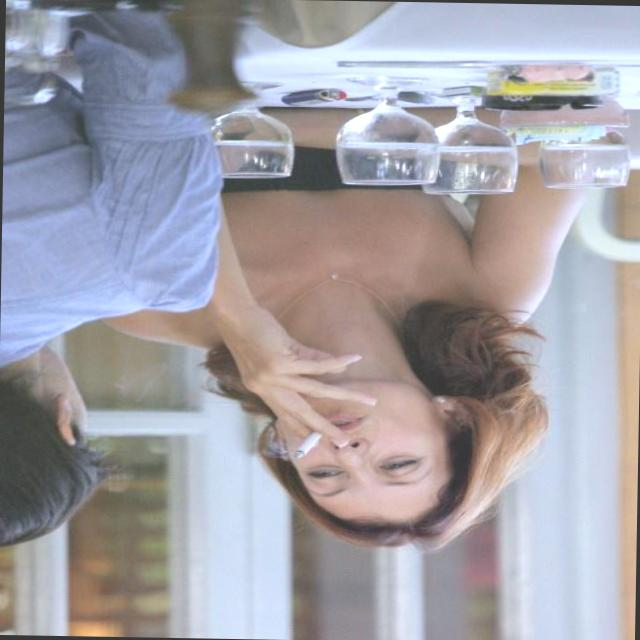smoke: (284, 413, 334, 469)
